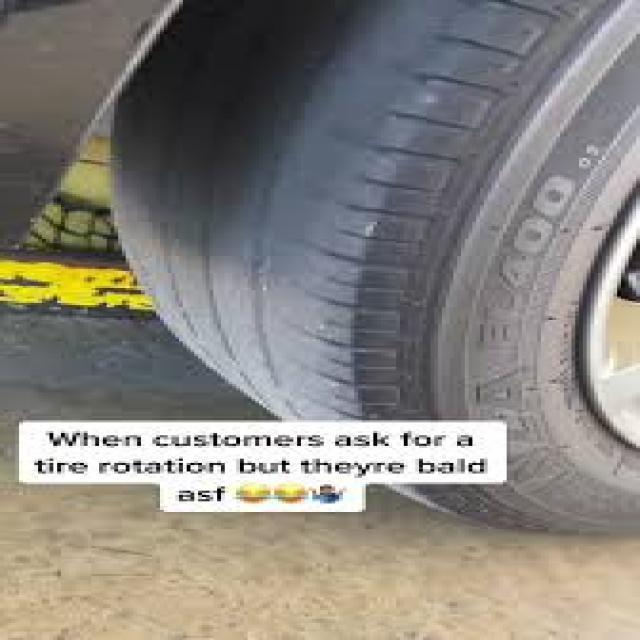Flat spots: (150, 0, 397, 292)
